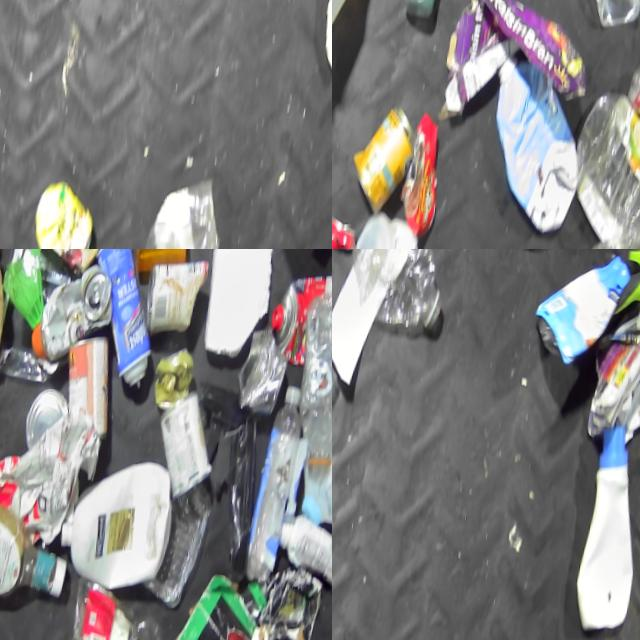can: (83, 249, 167, 385), (351, 94, 423, 214), (40, 256, 120, 363), (155, 380, 226, 494), (62, 327, 122, 439), (144, 249, 211, 335), (36, 171, 107, 249), (236, 319, 293, 408), (152, 338, 200, 410), (28, 381, 76, 450)
milk_jug: (484, 45, 596, 229), (61, 448, 182, 591), (303, 318, 332, 525)
non_white_jug: (530, 249, 633, 362)
plastic_bottle: (248, 374, 309, 579), (568, 79, 640, 249), (345, 249, 456, 326), (290, 281, 332, 475), (623, 50, 640, 161)
